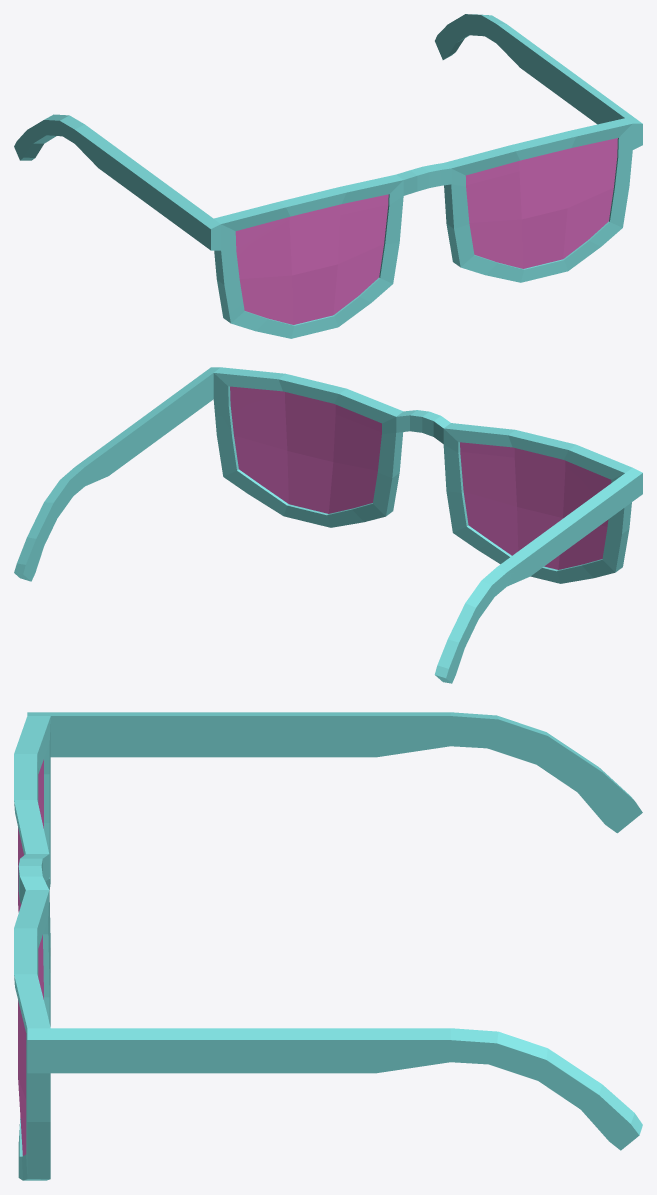
The model's file is glasses_principle.glb.
The picture shows the model from 3 angles, top to bottom: view 1: azimuth 30°, elevation 25°; view 2: azimuth 150°, elevation 25°; view 3: azimuth 270°, elevation 25°; orthographic projection. The views are drawn at different scales.
Parts seen in each view (by area): view 1: Sunglasses_01_Plane; view 2: Sunglasses_01_Plane; view 3: Sunglasses_01_Plane.
Part boxes in pixels (x1,y1,x2,y2): Sunglasses_01_Plane: (14, 14, 642, 338); Sunglasses_01_Plane: (14, 367, 642, 683); Sunglasses_01_Plane: (14, 712, 642, 1180).
Bounding box in the file's own units: 56.97 × 16.92 × 46.19.
